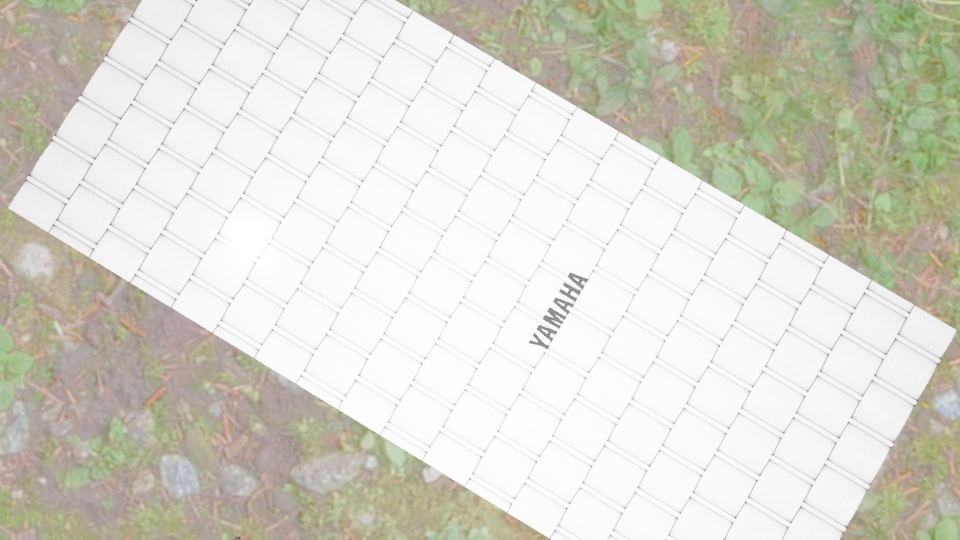yamaha_letters: (527, 271, 589, 350)
